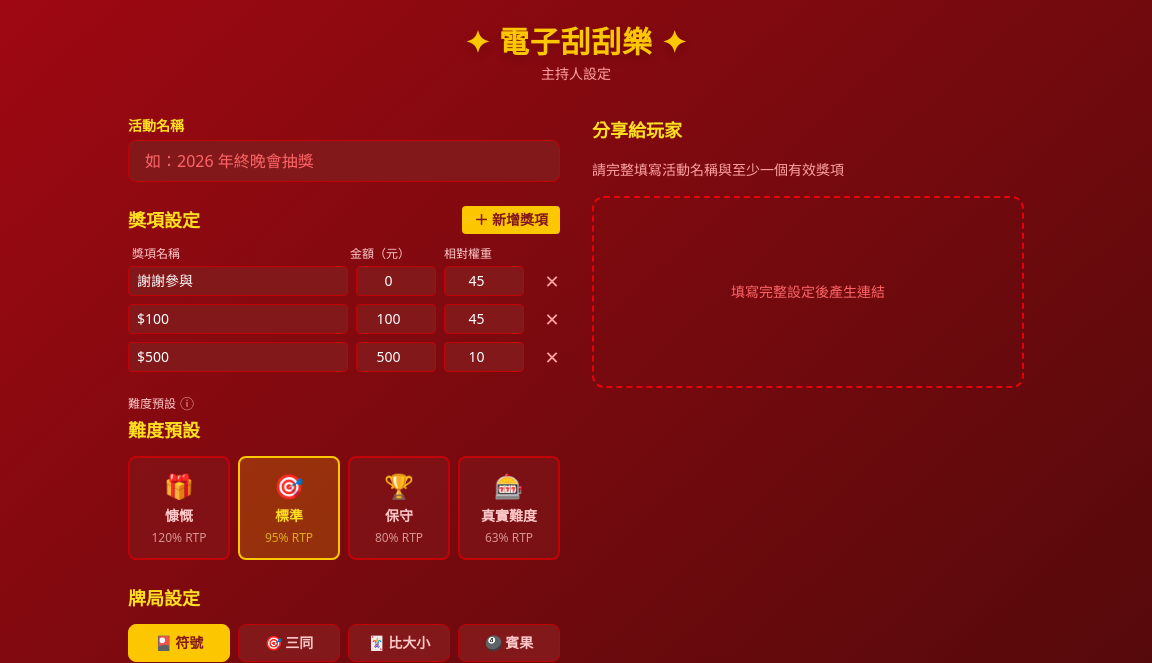
it: HostPage › 點擊新增獎項應增加一列
Click the button "＋ 新增獎項". click: (511, 220)
box: x1=462 y1=206 x2=560 y2=234
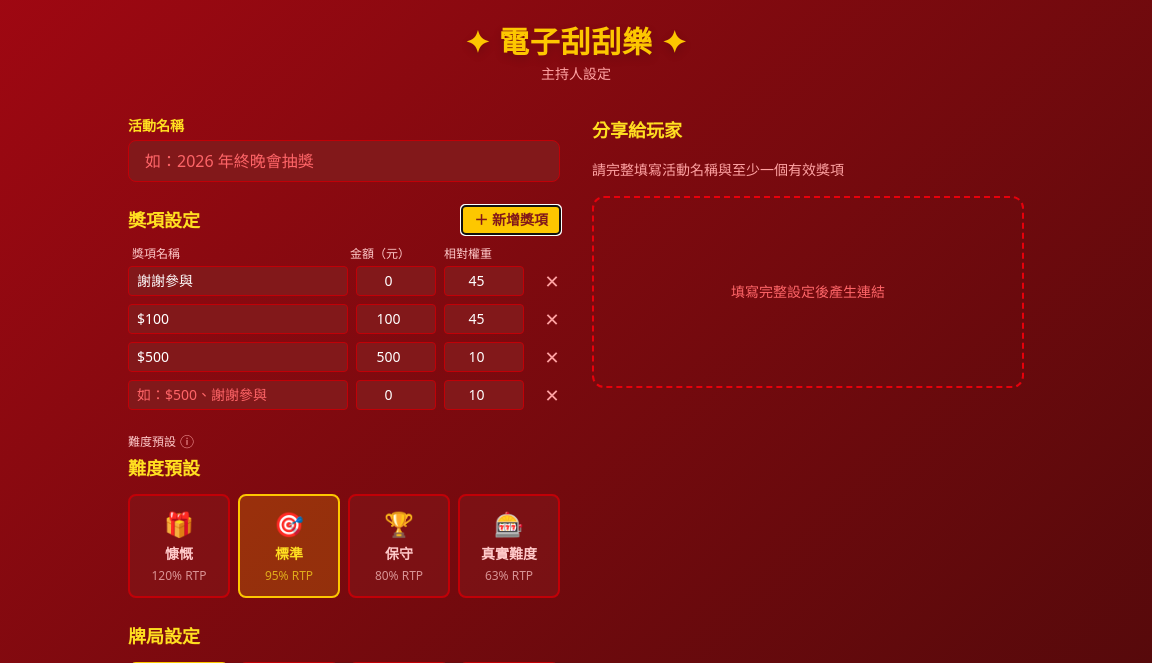
Check: the number of fields named "獎項名稱" is 4, box x1=128 y1=266 x2=348 y2=296; x1=128 y1=304 x2=348 y2=334; x1=128 y1=342 x2=348 y2=372; x1=128 y1=380 x2=348 y2=410
